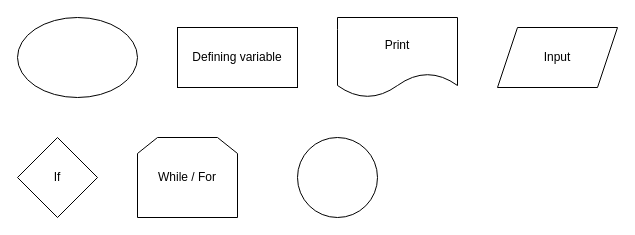
This 635x235 diagram has some shape labels left out. Here are the shapes that lost their labels. From the top down, the centre of each, then its label:
the point at 77,57: Start / Stop
the point at 337,177: Pass another algorithm diagram
